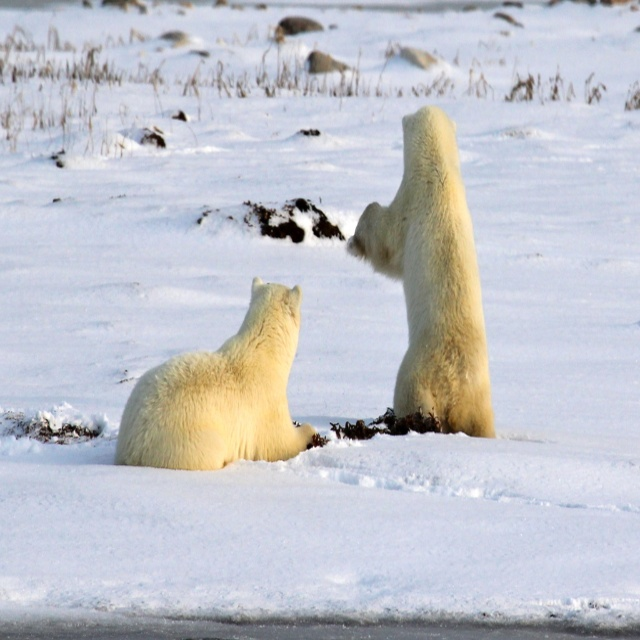Polar bear: (351, 102, 496, 441), (115, 274, 318, 468)
